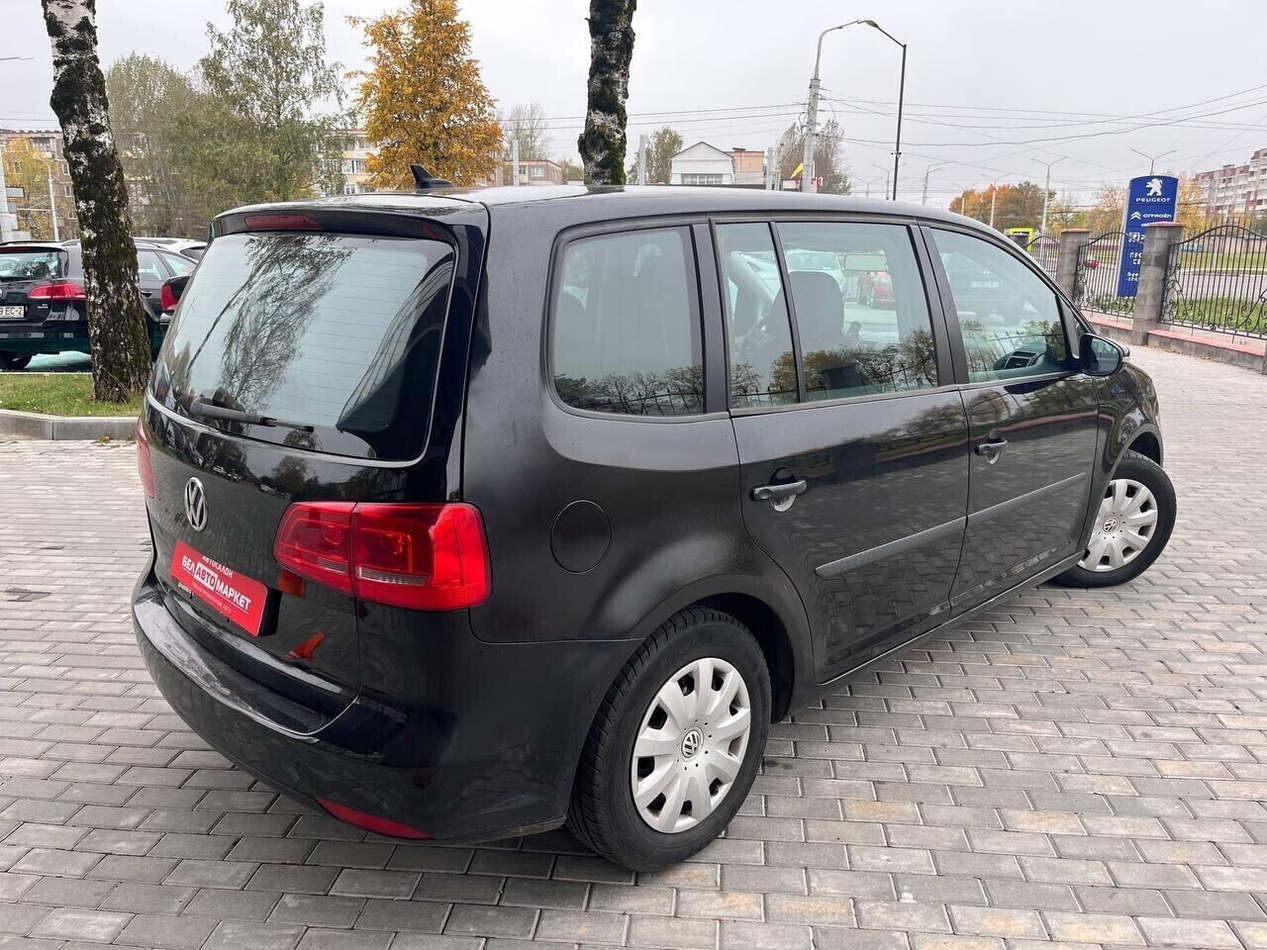Touran_2010-2015: (120, 183, 1175, 868)
